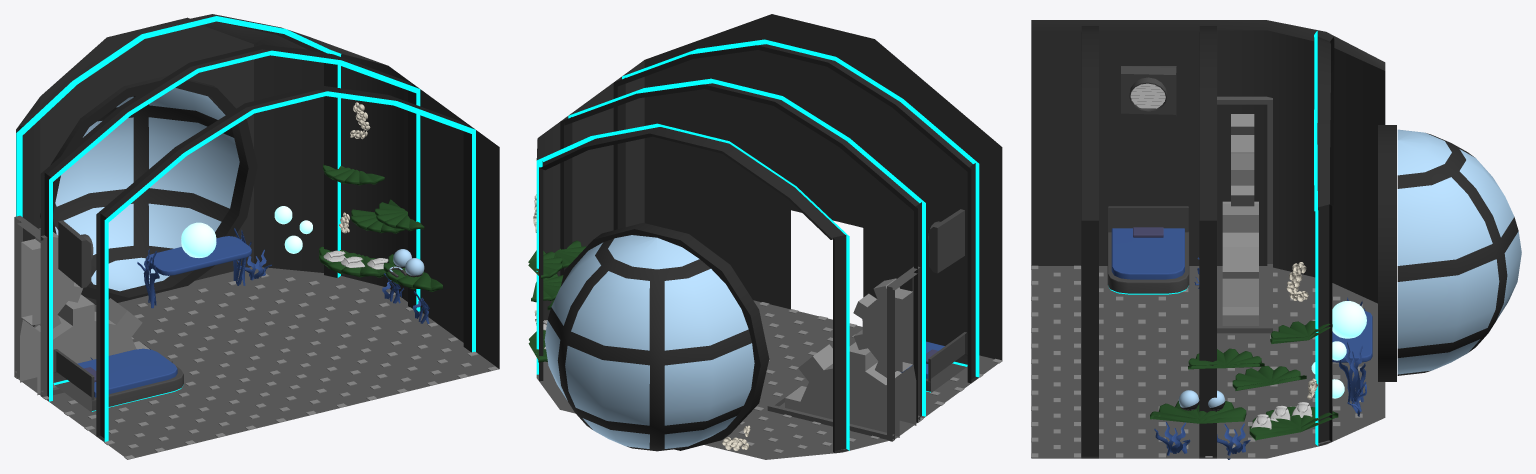
Rendered from Gialese_Apartment_01.fbx.
3 renders of one model, left to right at view 1: azimuth 30°, elevation 25°; view 2: azimuth 150°, elevation 25°; view 3: azimuth 270°, elevation 25°, orthographic. The views are drawn at different scales.
Visible parts, largest first — view 1: Walls_01, Flooring_01, Framework_01, Window_01, Gears_01, pTorus1, GialeseBed_01, Gears_02, Desk_01, WallVent_02, Ceiling_01, BubbleHolders_03 (+8 smaller); view 2: Walls_01, Window_01, Framework_01, Flooring_01, Gears_01, pTorus1, Gears_02, WallVent_02, GialeseBed_01, ShellShelf_05, ShellShelf_03; view 3: Walls_01, Flooring_01, Window_01, Framework_01, GialeseBed_01, Gears_01, pTorus1, Ceiling_01, WallVent_02, Gears_02, Desk_01, ShellShelf_02 (+9 smaller).
Part boxes in pixels (bbox=[...]): Walls_01: bbox=[16, 17, 499, 368]; Flooring_01: bbox=[17, 267, 499, 459]; Framework_01: bbox=[16, 15, 475, 441]; Window_01: bbox=[53, 88, 239, 291]; Gears_01: bbox=[20, 228, 149, 395]; pTorus1: bbox=[40, 75, 257, 302]; GialeseBed_01: bbox=[53, 348, 183, 411]; Gears_02: bbox=[14, 215, 172, 396]; Desk_01: bbox=[137, 228, 251, 308]; WallVent_02: bbox=[58, 220, 93, 288]; Ceiling_01: bbox=[187, 14, 386, 65]; BubbleHolders_03: bbox=[181, 222, 216, 257]; Walls_01: bbox=[536, 14, 1002, 360]; Window_01: bbox=[544, 235, 754, 451]; Framework_01: bbox=[536, 39, 979, 453]; Flooring_01: bbox=[536, 300, 1002, 459]; Gears_01: bbox=[785, 278, 916, 437]; pTorus1: bbox=[560, 223, 769, 450]; Gears_02: bbox=[767, 266, 920, 441]; WallVent_02: bbox=[928, 209, 964, 273]; GialeseBed_01: bbox=[900, 332, 967, 392]; ShellShelf_05: bbox=[528, 250, 562, 278]; ShellShelf_03: bbox=[531, 273, 563, 302]; Walls_01: bbox=[1031, 30, 1385, 303]; Flooring_01: bbox=[1031, 265, 1385, 458]; Window_01: bbox=[1397, 129, 1521, 375]; Framework_01: bbox=[1081, 26, 1334, 458]; GialeseBed_01: bbox=[1107, 206, 1189, 294]; Gears_01: bbox=[1222, 114, 1258, 325]; pTorus1: bbox=[1378, 125, 1396, 381]; Ceiling_01: bbox=[1031, 20, 1385, 70]; WallVent_02: bbox=[1121, 66, 1176, 117]; Gears_02: bbox=[1217, 96, 1272, 333]; Desk_01: bbox=[1332, 297, 1372, 402]; ShellShelf_02: bbox=[1150, 400, 1246, 423].
Size of the model in its own units: 2696 by 2054 by 2785.
